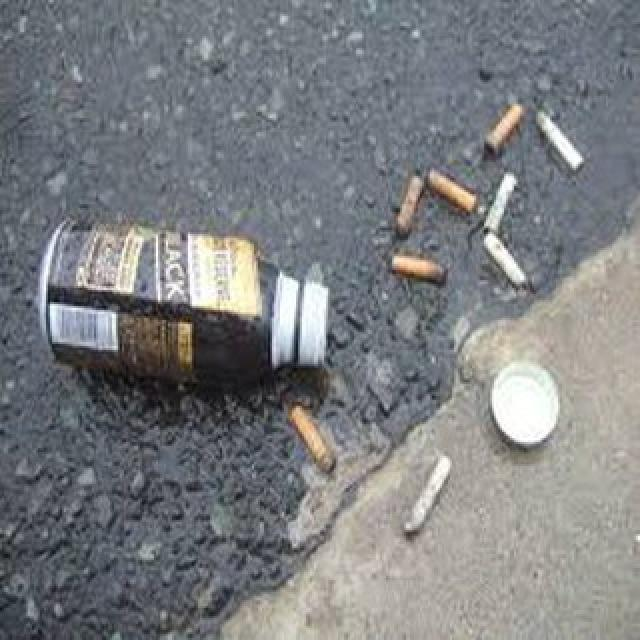can: (44, 213, 333, 399)
